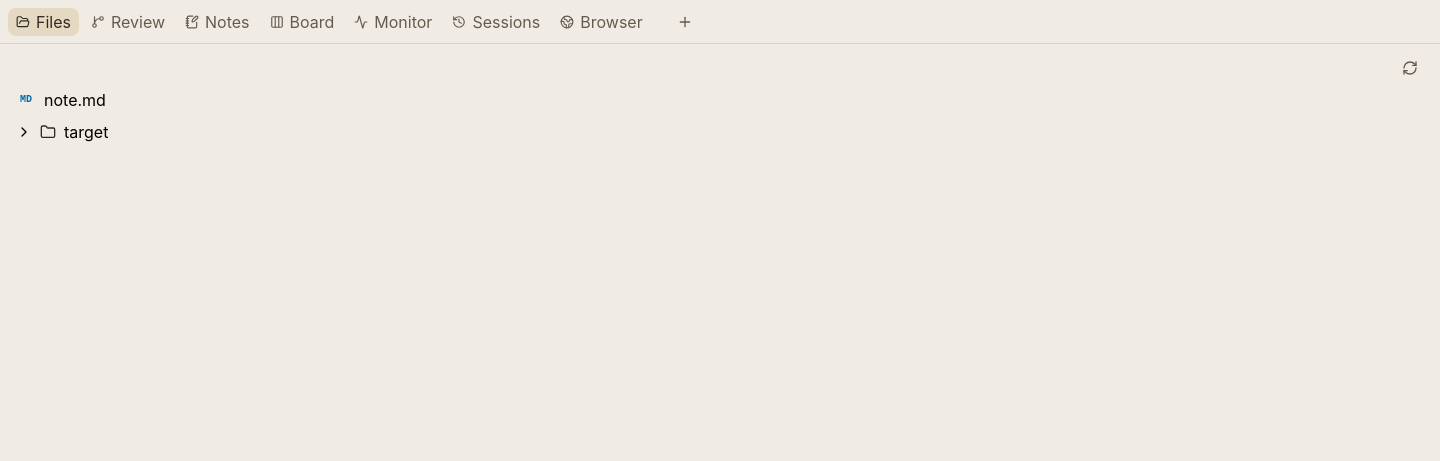
Test: shows errors without closing the menu
Step 1. Right-click the button "MD note.md" → (75, 100), box 8,84 -> 1432,116
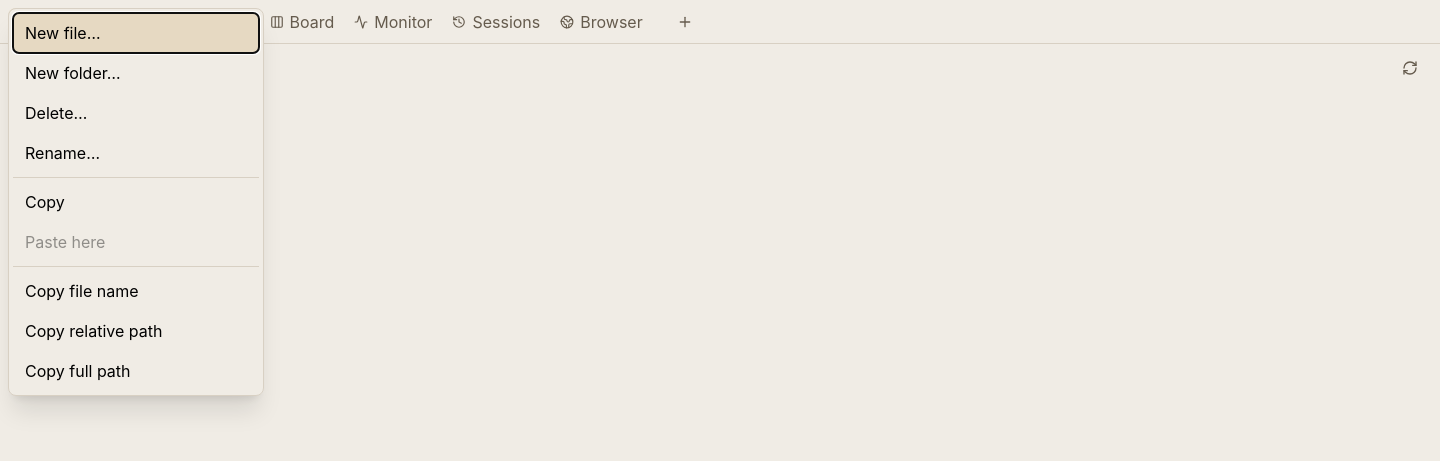
Expected: the menu item "Paste here" is disabled, 13,222 -> 259,262
Step 2. Click the menu item "Copy file name" → click(136, 291), box 13,271 -> 259,311
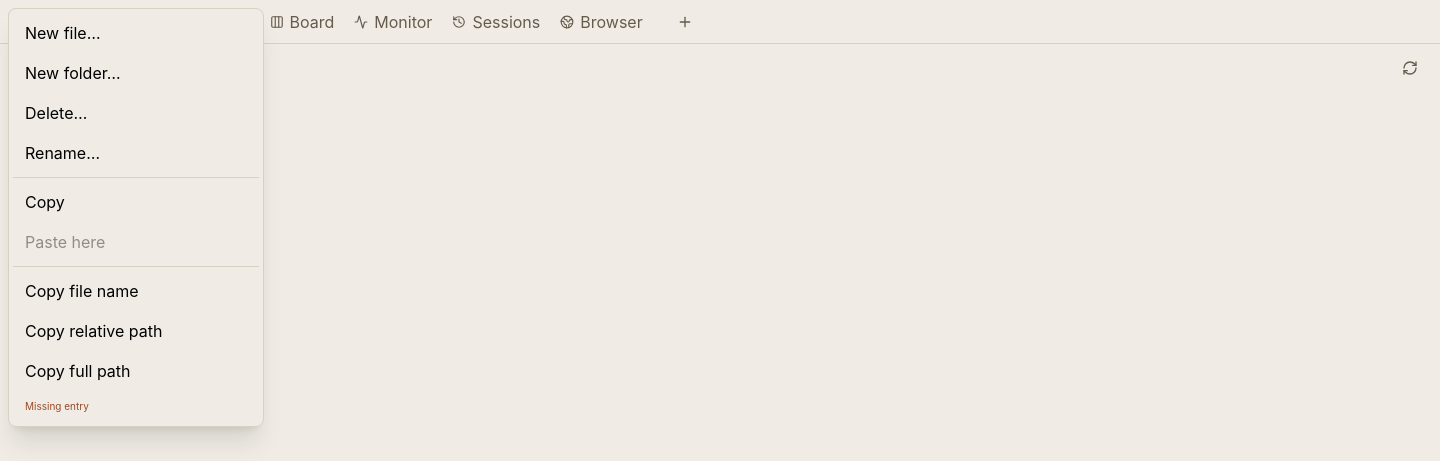
Expected: the message reads "Missing entry", 25,400 -> 89,412
Step 3. Press Escape
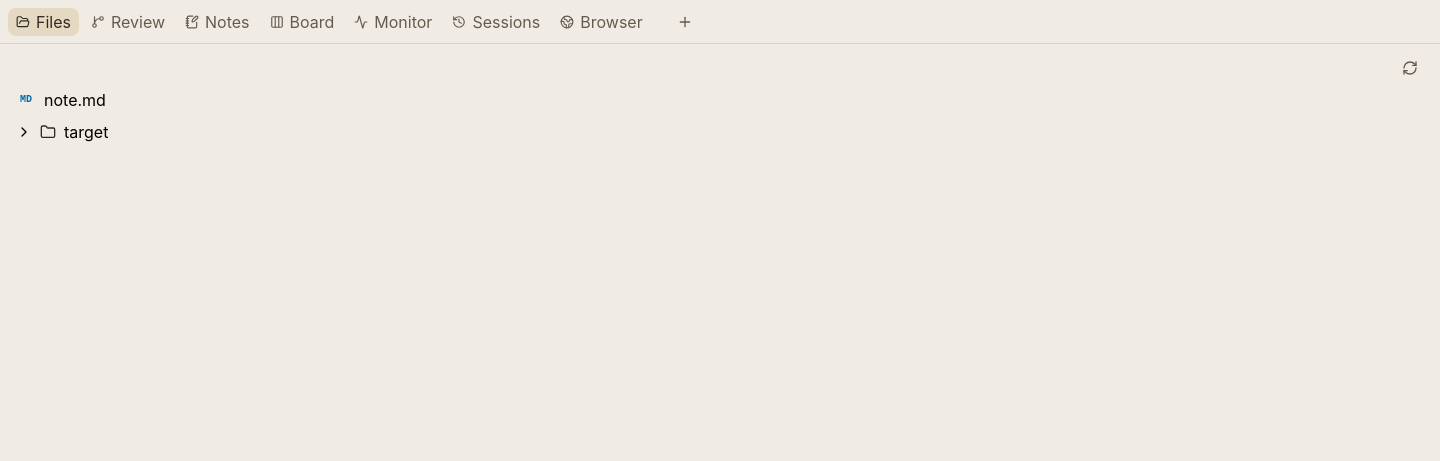
Expected: the menu is gone
